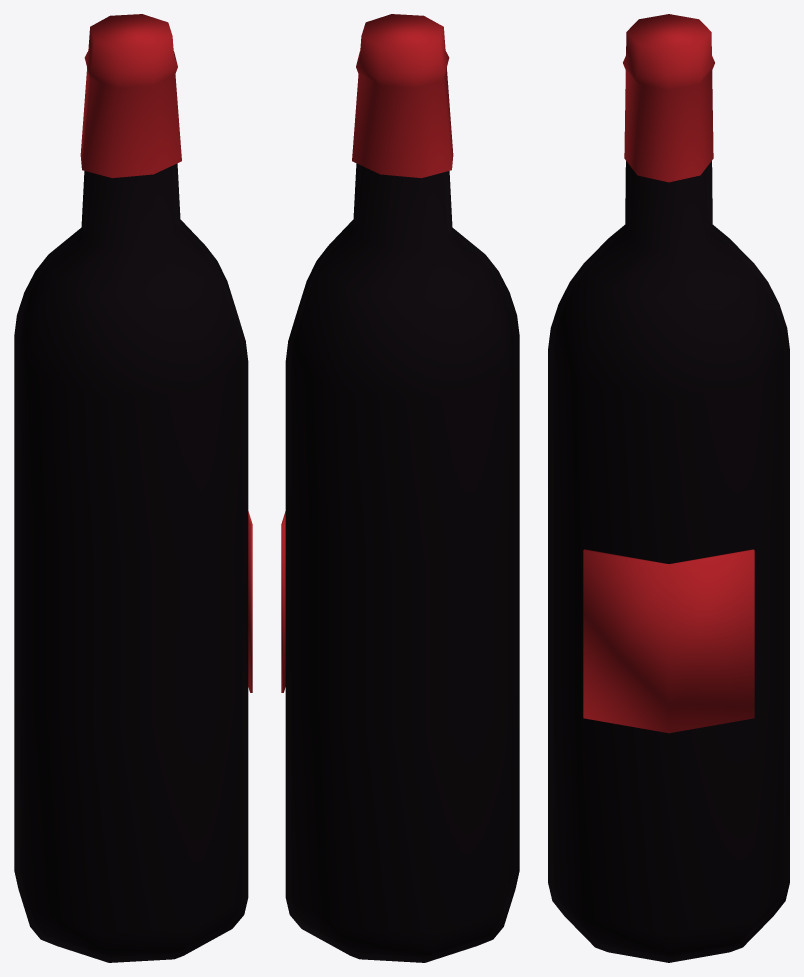
3 views of the same model, side by side, from view 1: azimuth 30°, elevation 25°; view 2: azimuth 150°, elevation 25°; view 3: azimuth 270°, elevation 25° (orthographic).
Visible parts, largest first — view 1: Circle_1, Circle.001_2, Circle.002_3; view 2: Circle_1, Circle.001_2, Circle.002_3; view 3: Circle_1, Circle.002_3, Circle.001_2.
Boxes of the visible parts, x1,y1,x2,y2 form: Circle_1: [14, 163, 248, 962]; Circle.001_2: [80, 14, 181, 178]; Circle.002_3: [248, 511, 252, 692]; Circle_1: [285, 163, 519, 962]; Circle.001_2: [352, 14, 453, 178]; Circle.002_3: [281, 511, 285, 692]; Circle_1: [548, 161, 789, 962]; Circle.002_3: [583, 549, 754, 733]; Circle.001_2: [623, 14, 714, 182].
Bounding box in the file's own units: 2.04 × 2 × 8.19.
